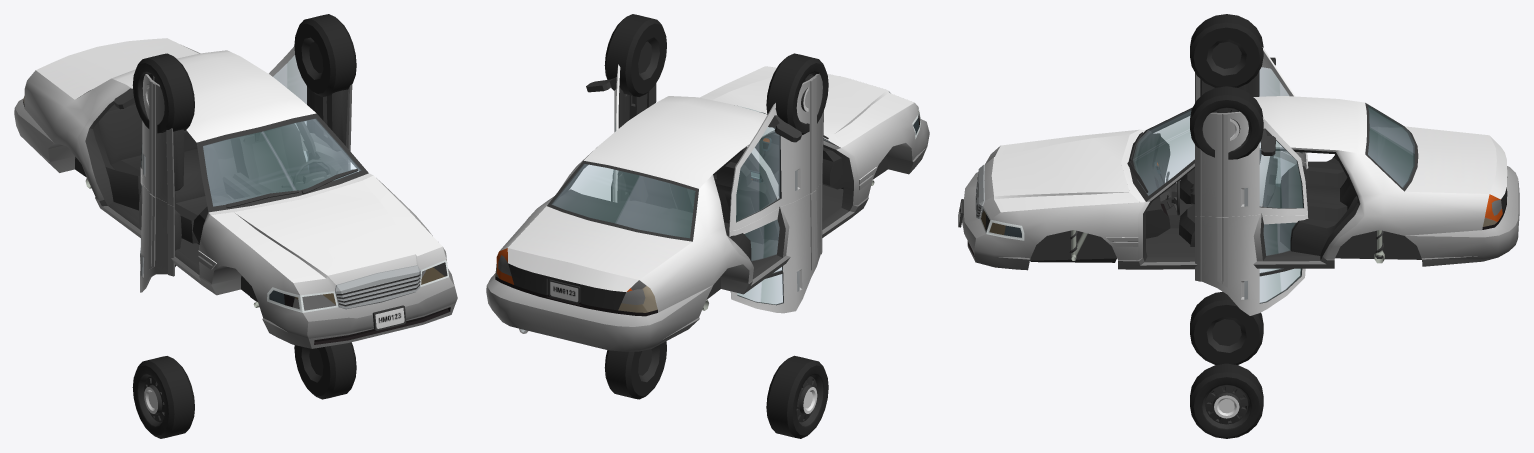
File: carro_sedan_aberto.glb
3 renders of one model, left to right at view 1: azimuth 30°, elevation 25°; view 2: azimuth 150°, elevation 25°; view 3: azimuth 270°, elevation 25°, orthographic. The views are drawn at different scales.
Parts seen in each view (by area): view 1: Base_Car, Car_hood, C_Wheels_B, Car_trunk, C_WheelFL, CDoor_FR, C_WheelFR, CDoor_FL, CDoor_BR, CDoor_BL; view 2: Base_Car, Car_trunk, CDoor_FR, C_Wheels_B, CDoor_BR, Car_hood, C_WheelFL, C_WheelFR, CDoor_FL; view 3: Base_Car, Car_hood, CDoor_FL, C_Wheels_B, CDoor_BL, Car_trunk, C_WheelFR, C_WheelFL, CDoor_FR.
Part boxes in pixels (x1,y1,x2,y2): Base_Car: (14,45,457,348); Car_hood: (211,175,442,282); C_Wheels_B: (132,342,356,438); Car_trunk: (36,38,198,99); C_WheelFL: (294,14,356,97); CDoor_FR: (114,74,184,206); C_WheelFR: (132,53,194,133); CDoor_FL: (269,46,352,163); CDoor_BR: (140,175,181,292); CDoor_BL: (301,141,350,174); Base_Car: (486,69,929,351); Car_trunk: (507,206,692,313); CDoor_FR: (729,73,823,230); C_Wheels_B: (604,341,828,438); CDoor_BR: (729,182,822,313); Car_hood: (700,66,914,145); C_WheelFL: (604,14,666,96); C_WheelFR: (766,53,828,134); CDoor_FL: (586,64,656,202); Base_Car: (958,96,1519,270); Car_hood: (991,129,1139,212); CDoor_FL: (1195,111,1307,216); C_Wheels_B: (1190,291,1263,438); CDoor_BL: (1195,214,1308,315); Car_trunk: (1405,126,1507,216); C_WheelFR: (1190,14,1263,87); C_WheelFL: (1190,86,1263,159); CDoor_FR: (1195,47,1307,162).
Bounding box in the file's own units: 2.16 × 3.65 × 5.4.
4 materials, 4 textured.
